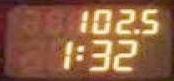-: (132, 26, 138, 35)
0: (89, 5, 109, 32)
1: (59, 38, 70, 72), (77, 6, 87, 31)
2: (112, 38, 135, 72), (113, 8, 132, 34)
3: (89, 37, 109, 70)
5: (140, 8, 159, 33)
X: (74, 43, 84, 62)
